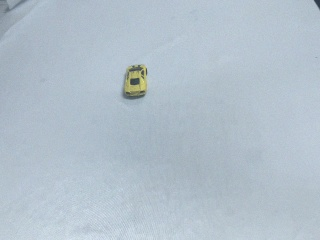toy_car: (123, 64, 147, 98)
